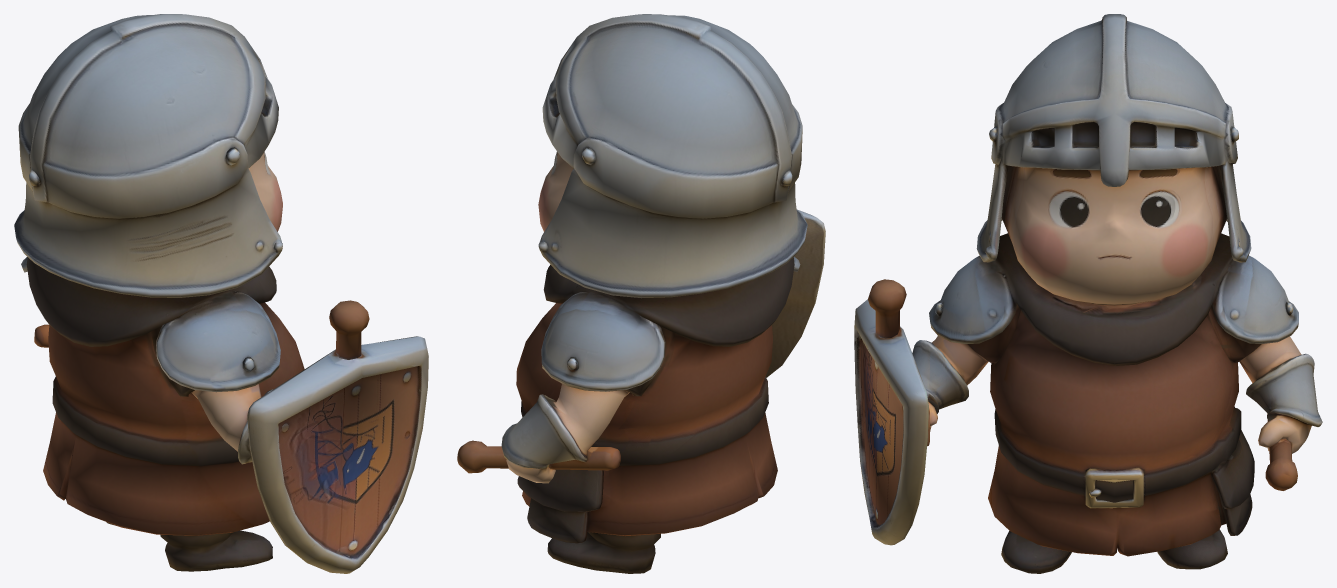
Rendered from caballerito 3d modelo nivel 1.glb.
The picture shows the model from 3 angles, left to right: view 1: azimuth 30°, elevation 25°; view 2: azimuth 150°, elevation 25°; view 3: azimuth 270°, elevation 25°; orthographic projection. The views are drawn at different scales.
Visible parts, largest first — view 1: tripo_node_e0ebb229-2210-420a-99a3-ef8f9c740c33; view 2: tripo_node_e0ebb229-2210-420a-99a3-ef8f9c740c33; view 3: tripo_node_e0ebb229-2210-420a-99a3-ef8f9c740c33.
Boxes of the visible parts, box(x1,y1,x2,y2) form: tripo_node_e0ebb229-2210-420a-99a3-ef8f9c740c33: box(14, 14, 428, 573); tripo_node_e0ebb229-2210-420a-99a3-ef8f9c740c33: box(457, 14, 825, 573); tripo_node_e0ebb229-2210-420a-99a3-ef8f9c740c33: box(854, 14, 1322, 573).
Bounding box in the file's own units: 0.5918 × 0.998 × 0.8223.
1 material, 1 textured.
